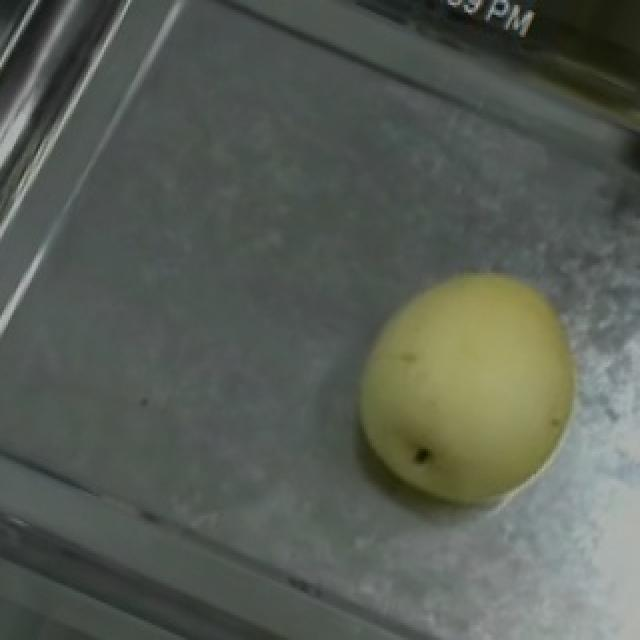Fruit: (310, 228, 622, 543)
